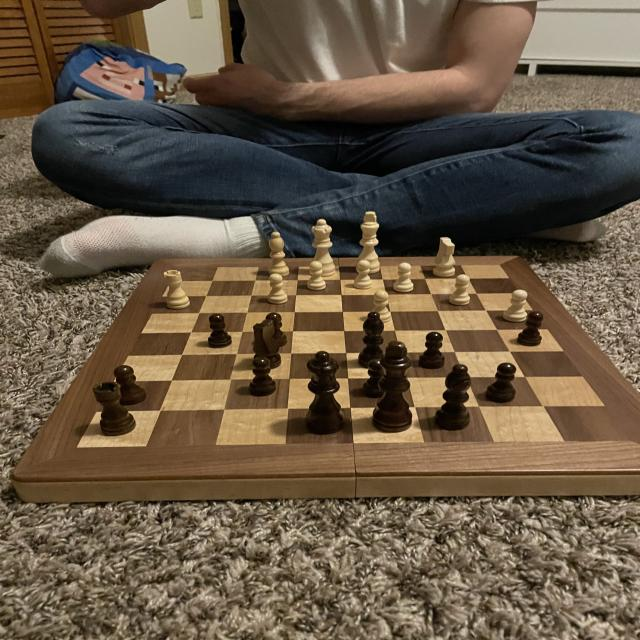bishop: (428, 359, 481, 435), (354, 309, 391, 369)
black-bishop: (368, 338, 416, 437)
black-king: (250, 317, 285, 371)
black-knight: (482, 360, 522, 406), (110, 363, 148, 406), (247, 354, 280, 400), (515, 308, 549, 349), (418, 329, 450, 372), (204, 311, 238, 350), (362, 356, 392, 400), (264, 311, 292, 348)
black-pawn: (298, 348, 352, 437)
black-queen: (90, 378, 140, 438)
black-rook: (264, 227, 294, 280)
white-bishop: (356, 208, 385, 276)
white-king: (429, 234, 460, 278)
white-knight: (499, 286, 531, 326), (446, 272, 476, 307), (389, 259, 417, 295), (304, 258, 330, 294), (266, 272, 292, 307), (351, 258, 377, 292), (368, 288, 393, 322)
white-pawn: (305, 216, 342, 279)
white-queen: (162, 267, 193, 312)
